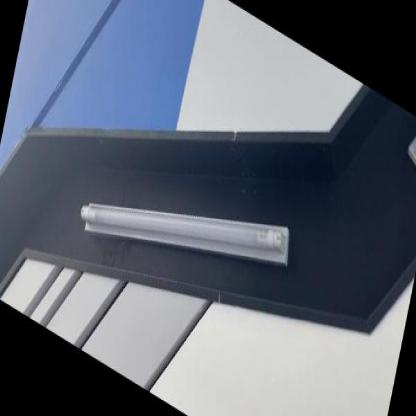light_off: (63, 82, 300, 378)
